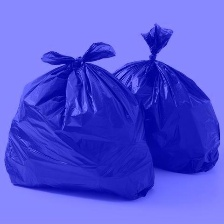plastic_bag: (2, 37, 158, 205), (99, 21, 224, 178)
